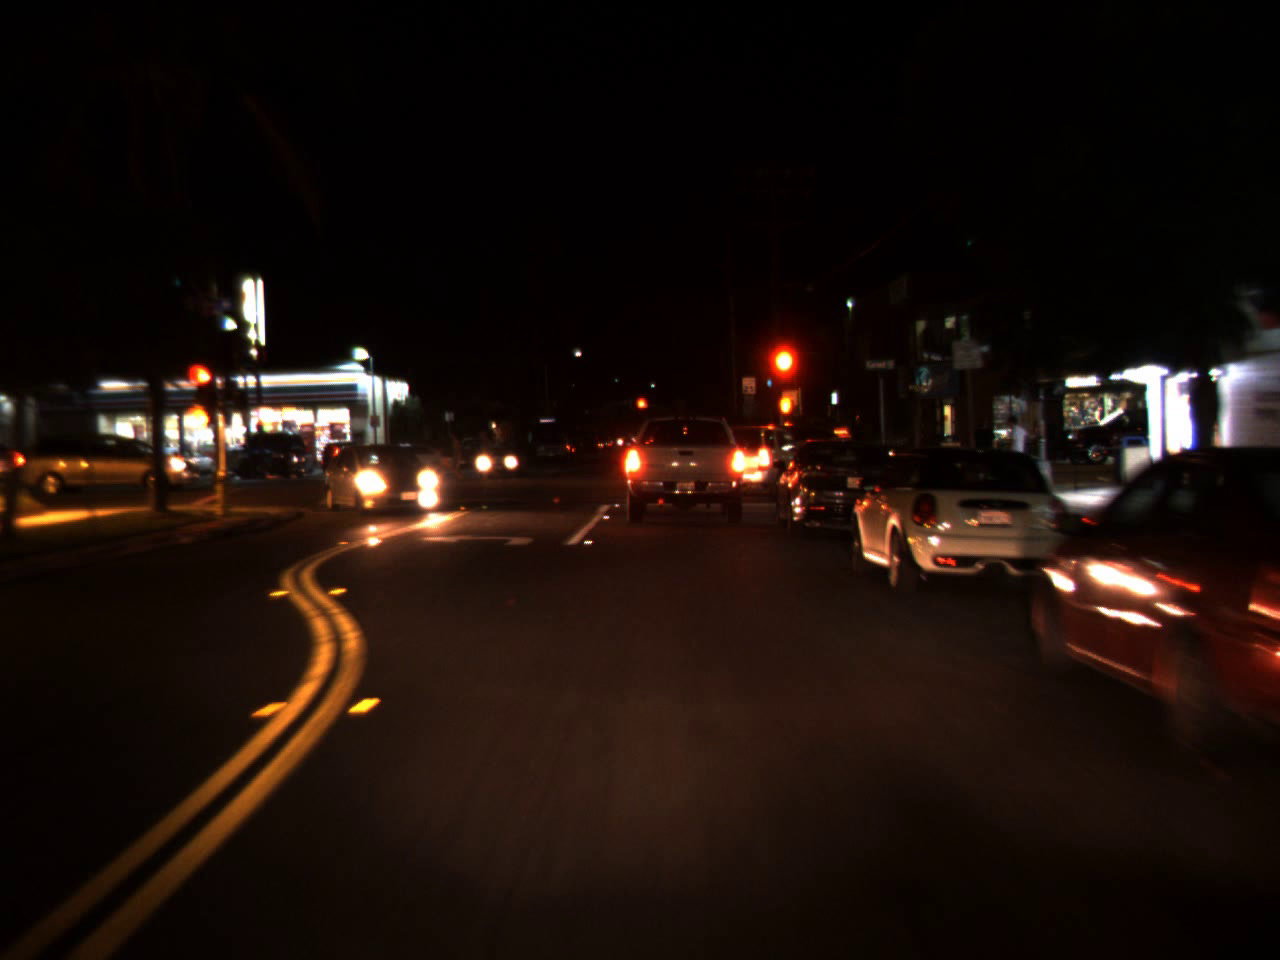stop: (767, 344, 795, 406), (184, 361, 217, 415), (635, 396, 648, 419)
